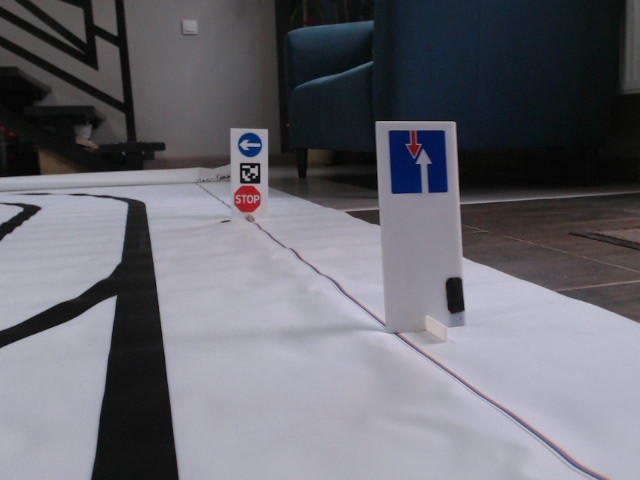Stop: (232, 184, 261, 213)
priority_movement: (387, 128, 448, 195)
